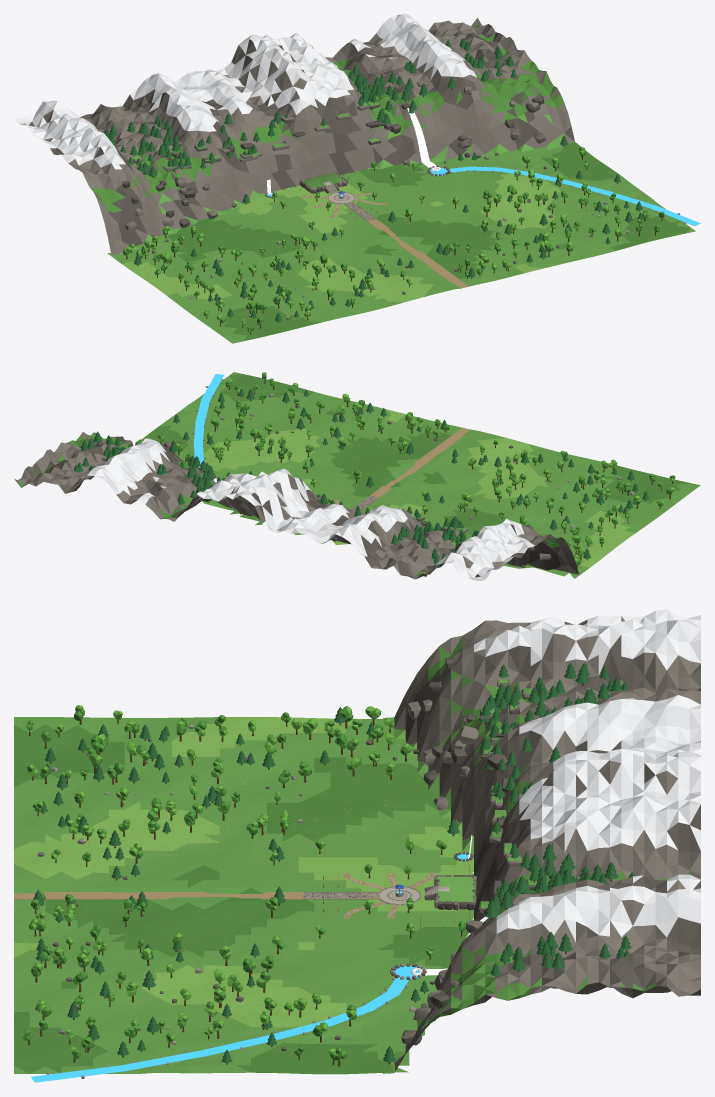
Rendered from teren.glb.
The picture shows the model from 3 angles, top to bottom: view 1: azimuth 30°, elevation 25°; view 2: azimuth 150°, elevation 25°; view 3: azimuth 270°, elevation 25°; orthographic projection. The views are drawn at different scales.
Parts seen in each view (by area): view 1: teren; view 2: teren; view 3: teren.
Part boxes in pixels (<box>): teren: <box>14,14,700,343</box>; teren: <box>14,372,700,580</box>; teren: <box>14,609,700,1082</box>.
Size of the model in its own units: 195 by 37.87 by 155.
